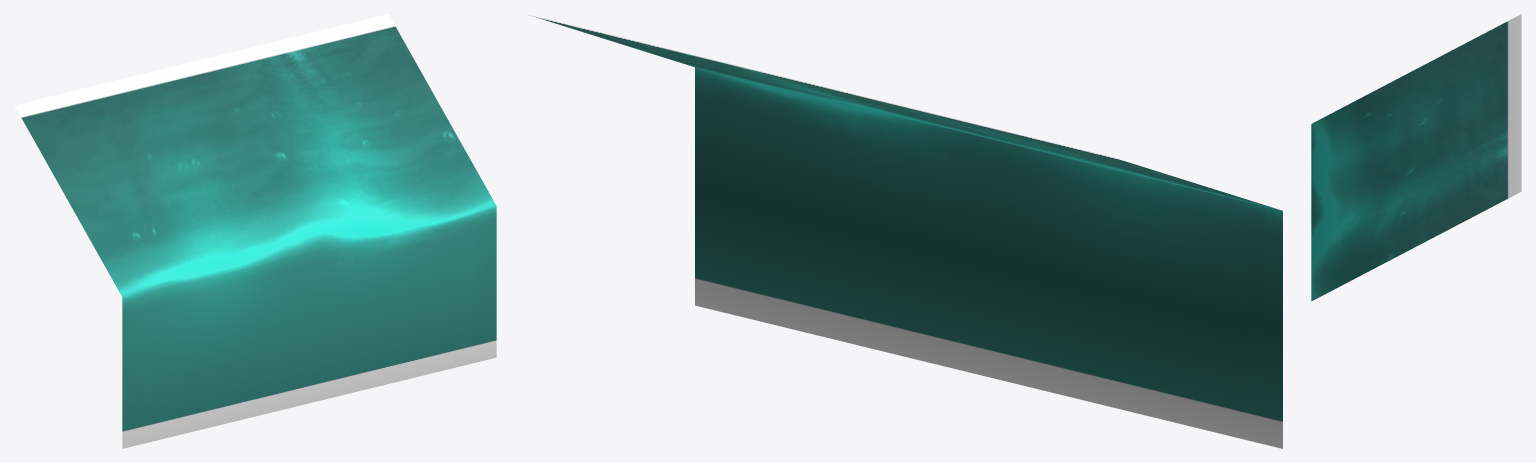
File: Water Surface Loop.FBX
The picture shows the model from 3 angles, left to right: view 1: azimuth 30°, elevation 25°; view 2: azimuth 150°, elevation 25°; view 3: azimuth 270°, elevation 25°; orthographic projection. The views are drawn at different scales.
Visible parts, largest first — view 1: Water Loopable Shore Start, Water Loopable Shore End, Water Loopable; view 2: Water Loopable Shore Start, Water Loopable Shore End, Water Loopable; view 3: Water Loopable Shore End, Water Loopable Shore Start, Water Loopable.
Part boxes in pixels (x1,y1,x2,y2): Water Loopable Shore Start: (100, 14, 496, 448); Water Loopable Shore End: (15, 35, 496, 447); Water Loopable: (14, 60, 307, 296); Water Loopable Shore Start: (528, 14, 1282, 448); Water Loopable Shore End: (661, 47, 1282, 448); Water Loopable: (946, 116, 1279, 209); Water Loopable Shore End: (1311, 15, 1521, 289); Water Loopable Shore Start: (1311, 64, 1521, 301); Water Loopable: (1311, 14, 1521, 179).
Size of the model in its own units: 400 by 200 by 270.
